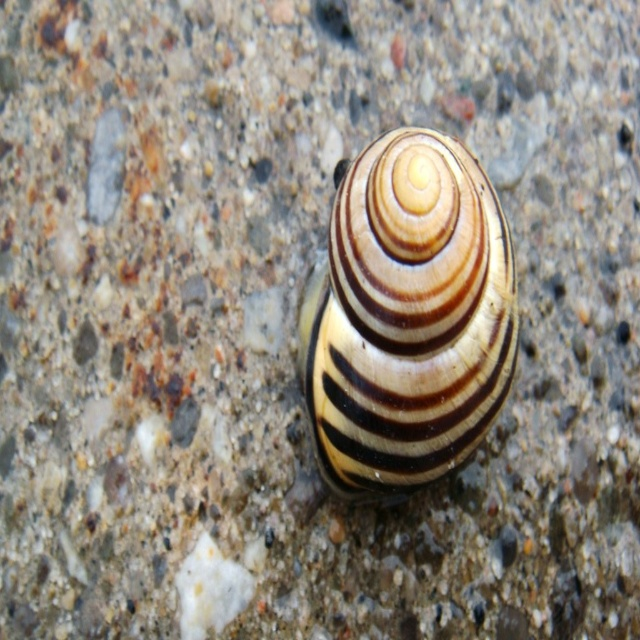Snail: (299, 125, 520, 502)
